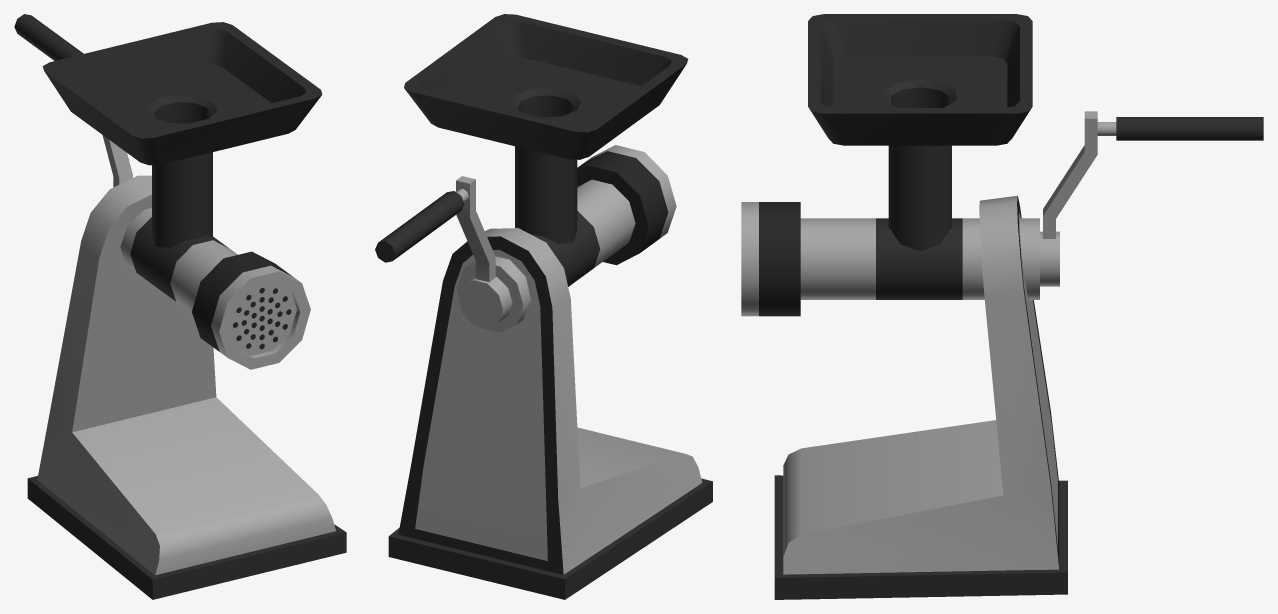
Rendered from MeatGrinder_01.fbx.
3 views of the same model, side by side, from view 1: azimuth 30°, elevation 25°; view 2: azimuth 150°, elevation 25°; view 3: azimuth 270°, elevation 25° (orthographic). The views are drawn at different scales.
Visible parts, largest first — view 1: MeatGrinder_01, MeatGrinder_01_Handle; view 2: MeatGrinder_01, MeatGrinder_01_Handle; view 3: MeatGrinder_01, MeatGrinder_01_Handle.
Part boxes in pixels (x1=…): MeatGrinder_01: x1=27, y1=22, x2=346, y2=599; MeatGrinder_01_Handle: x1=14, y1=14, x2=132, y2=187; MeatGrinder_01: x1=388, y1=14, x2=712, y2=599; MeatGrinder_01_Handle: x1=375, y1=176, x2=512, y2=328; MeatGrinder_01: x1=741, y1=14, x2=1067, y2=599; MeatGrinder_01_Handle: x1=1040, y1=111, x2=1263, y2=286.
Bounding box in the file's own units: 0.1853 × 0.4081 × 0.3983.
